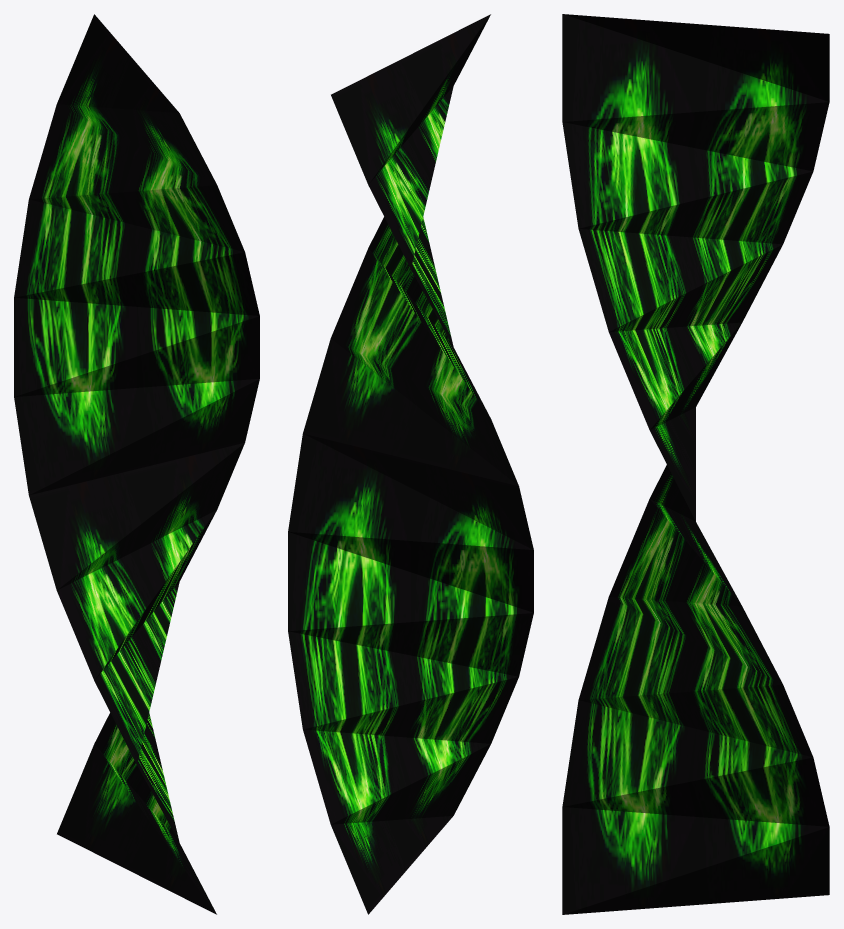
File: tx_linghunbianta.obj
The picture shows the model from 3 angles, left to right: view 1: azimuth 30°, elevation 25°; view 2: azimuth 150°, elevation 25°; view 3: azimuth 270°, elevation 25°; orthographic projection. The views are drawn at different scales.
Parts seen in each view (by area): view 1: Plane01; view 2: Plane01; view 3: Plane01.
Part boxes in pixels (<box>): Plane01: <box>14,14,259,914</box>; Plane01: <box>288,14,533,914</box>; Plane01: <box>562,14,829,914</box>.
Size of the model in its own units: 74.21 by 266 by 73.08.
1 material, 1 textured.
